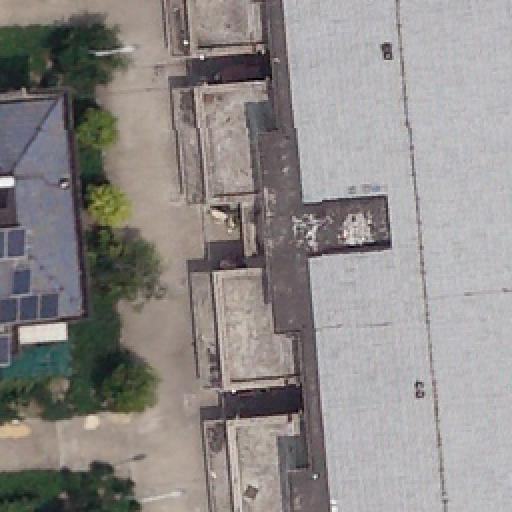solar-panel: (1, 291, 65, 323), (0, 224, 32, 262), (7, 264, 34, 294), (1, 329, 17, 375)
